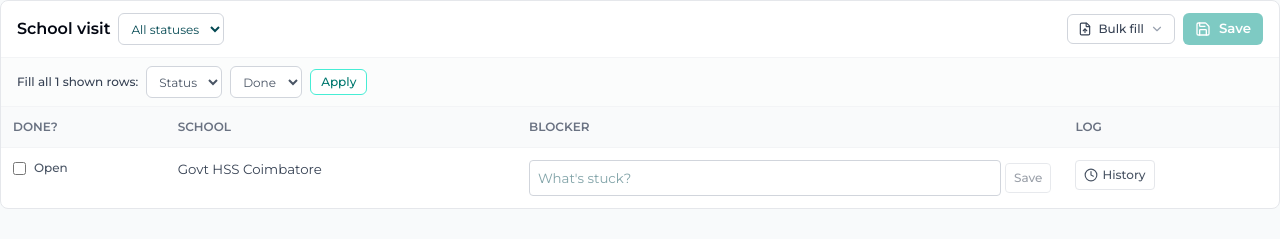
Test: grid toolbar — bulk fill menu › downloads the fill template in the chosen format and closes the menu
Click the button "Bulk fill" at (1121, 29), box [1067,14,1175,44]
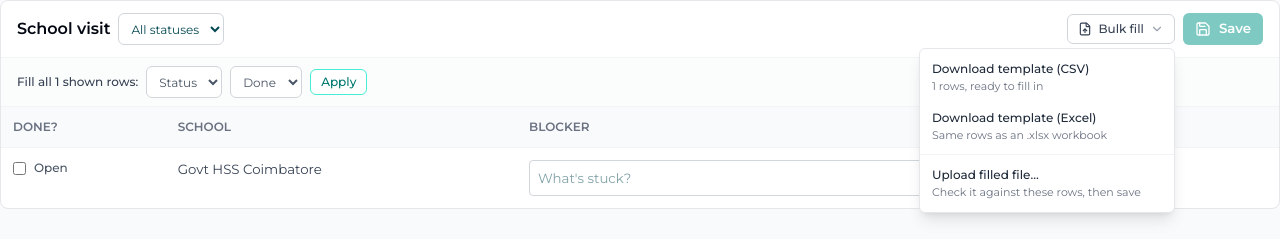
Click the menu item "Download template (Excel) Same rows as an .xlsx workbook" at (1047, 126), box [920,102,1174,150]
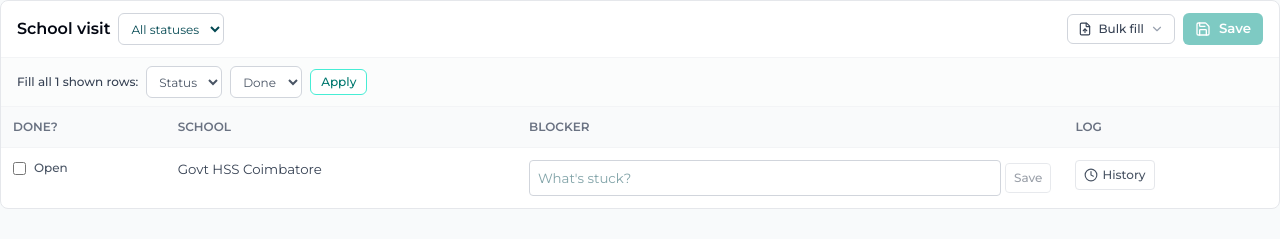
Expected: the menu item "Excel" is gone
